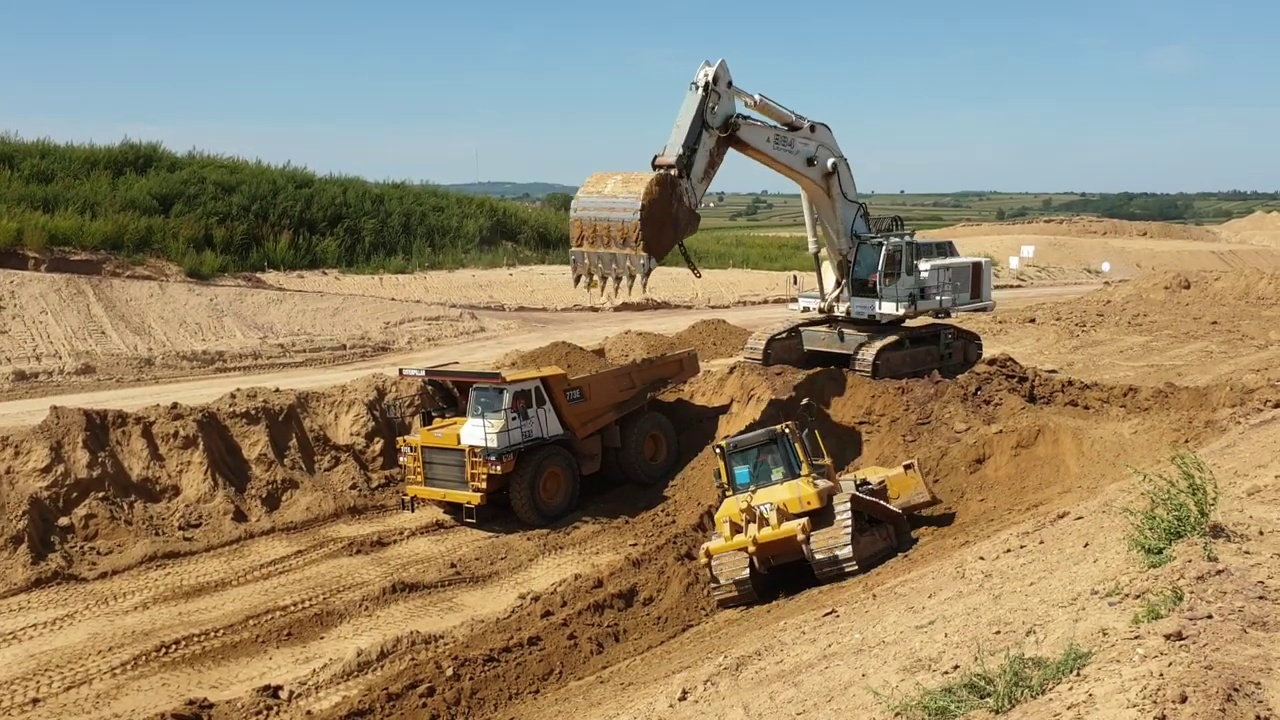bulldozer: (694, 395, 950, 612)
excavator: (561, 52, 1001, 382)
truck: (394, 344, 704, 537)
